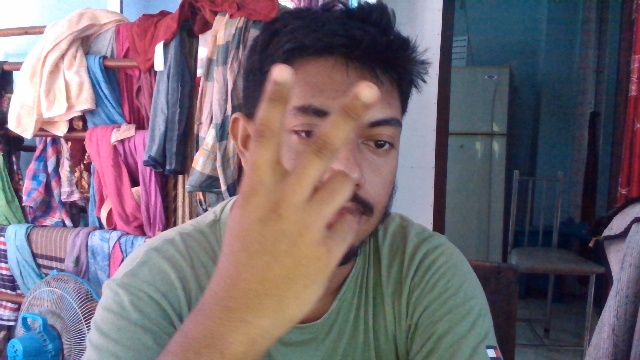thanks: (226, 51, 383, 319)
